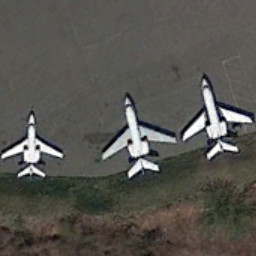Airplane: (96, 88, 181, 183), (177, 73, 256, 161), (1, 96, 68, 187)
